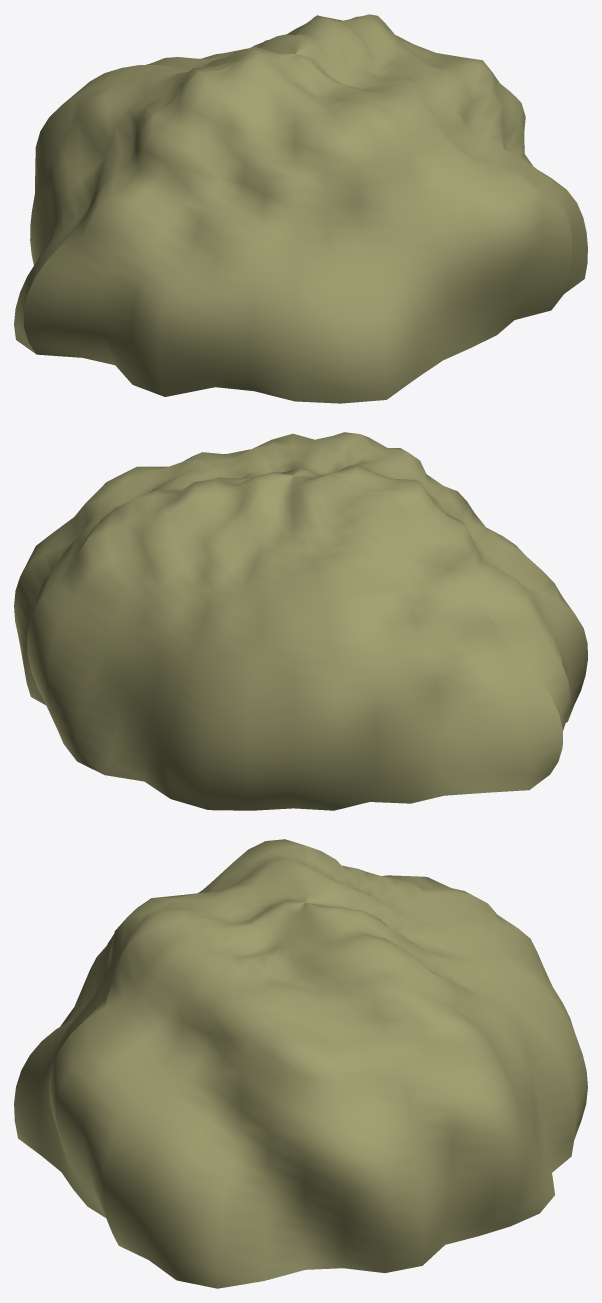
Rendered from coral-mound.glb.
3 views of the same model, one above another, from view 1: azimuth 30°, elevation 25°; view 2: azimuth 150°, elevation 25°; view 3: azimuth 270°, elevation 25° (orthographic). The views are drawn at different scales.
Parts seen in each view (by area): view 1: Original authored part; view 2: Original authored part; view 3: Original authored part.
Boxes of the visible parts, box(x1,y1,x2,y2) form: Original authored part: box(14, 14, 587, 403); Original authored part: box(14, 432, 587, 810); Original authored part: box(14, 839, 587, 1288).
Size of the model in its own units: 1.59 by 0.7383 by 1.41.
